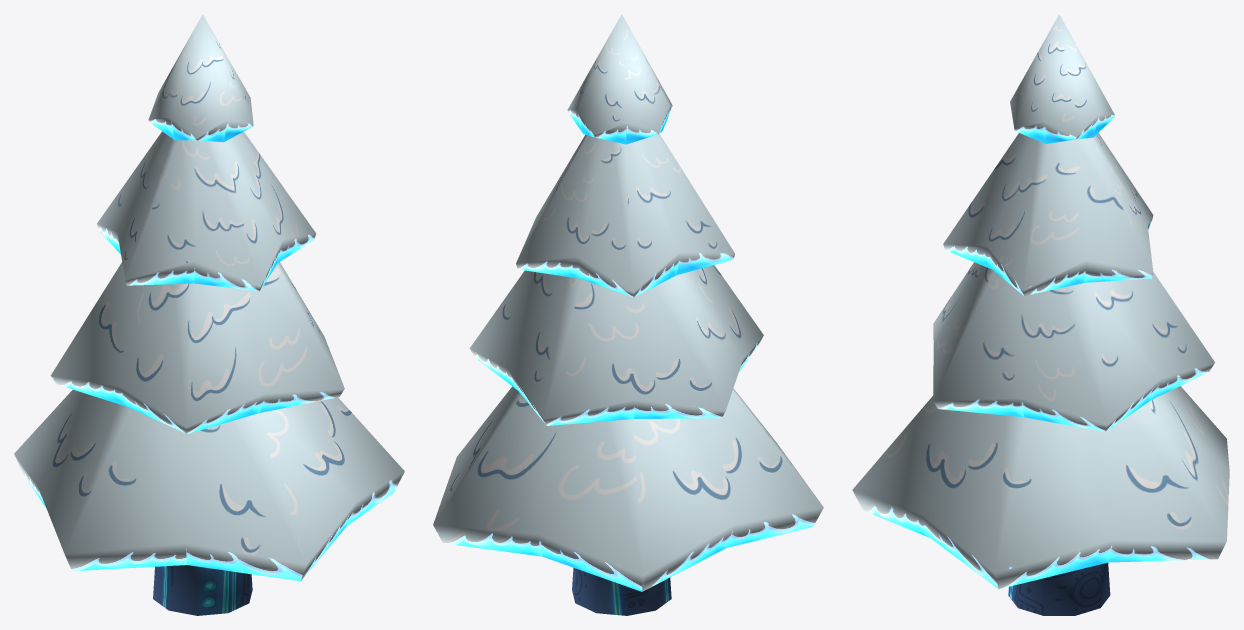
File: Doge snowy tree.fbx
3 views of the same model, side by side, from view 1: azimuth 30°, elevation 25°; view 2: azimuth 150°, elevation 25°; view 3: azimuth 270°, elevation 25° (orthographic).
Parts seen in each view (by area): view 1: Cylinder; view 2: Cylinder; view 3: Cylinder.
Boxes of the visible parts, <box> form: Cylinder: <box>14,14,404,615</box>; Cylinder: <box>433,14,823,615</box>; Cylinder: <box>852,14,1229,615</box>.
Bounding box in the file's own units: 895 × 1460 × 859.
